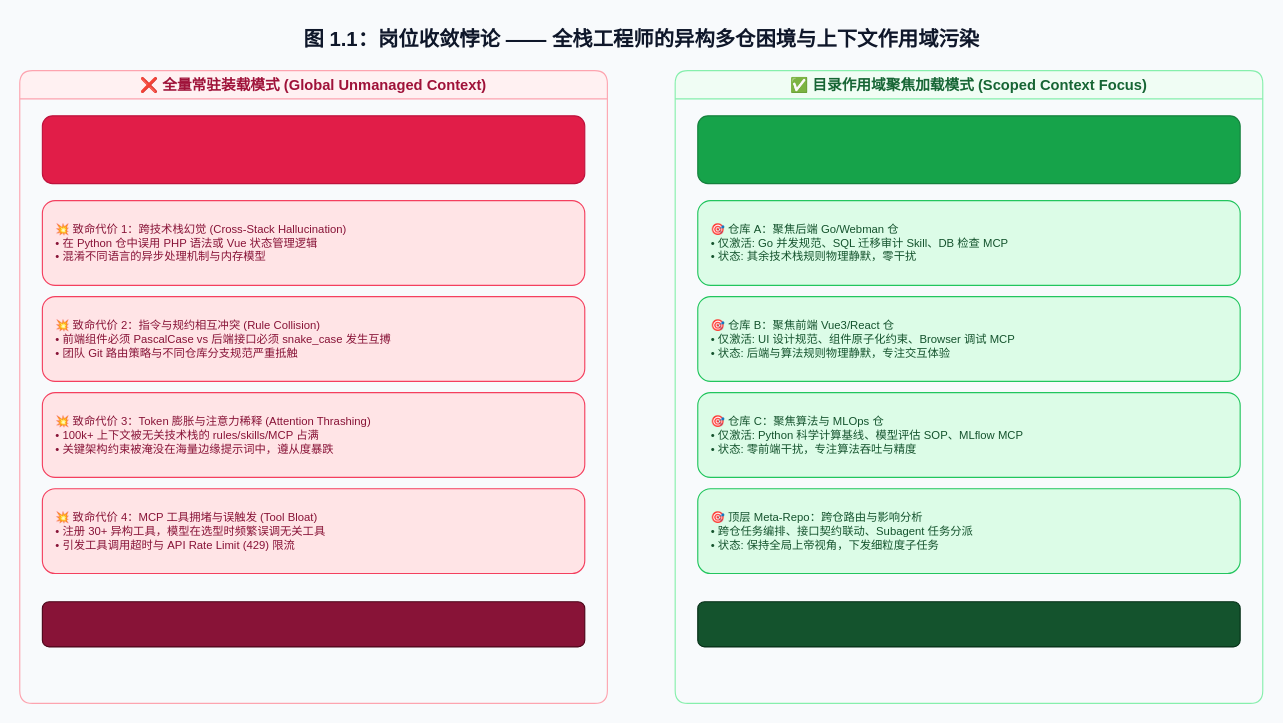
Image size: 1283x723. Some labels were removed from this diagram. Here are the shapes that lost their labels. From the top down, the centre of each, then its label:
At point (313, 149): "全栈工程师 AI Code Agent (全局混杂会话) 同时塞入：PHP规范 + Vue3规范 + Python规范 + Go微服务规范 + 全量MCP".
At point (968, 149): "全栈工程师 AI Code Agent (动态作用域会话) 聚焦当前 Git 仓库，仅激活当前技术栈三要素 (Rule / Skill / MCP)".
At point (313, 624): "结果：AI 助手越升级越迟钝，工程师被迫反复纠正代码低级错误".
At point (968, 624): "收益：100% 确定性、极低 Token 消耗、零跨栈幻觉、极速响应".
